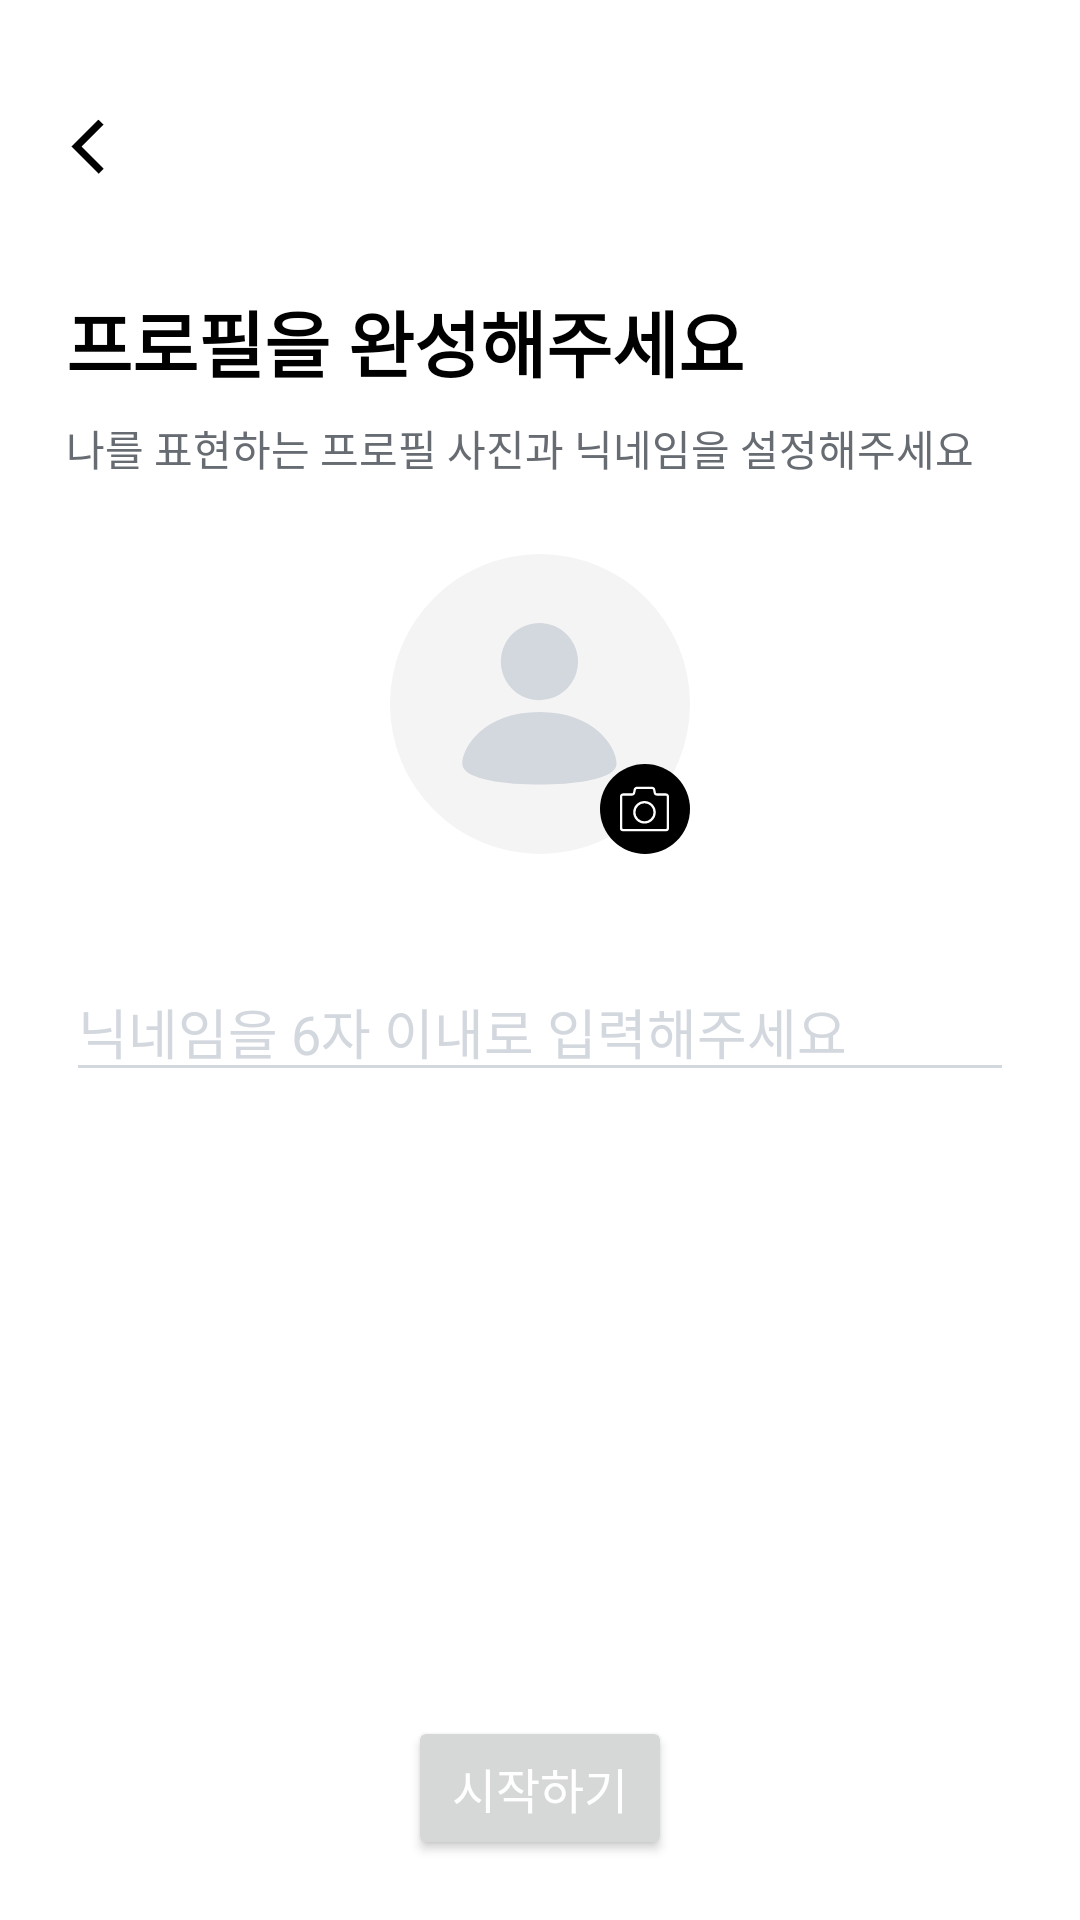

Locate icon controls on the screen. Image size 1080*1920, boxes as bbox=[x1, y1, x2, y2].
arrow left mono: bbox=[71, 120, 104, 174]
